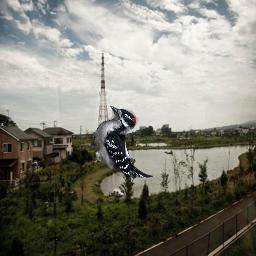Woodpecker: (93, 106, 153, 178)
